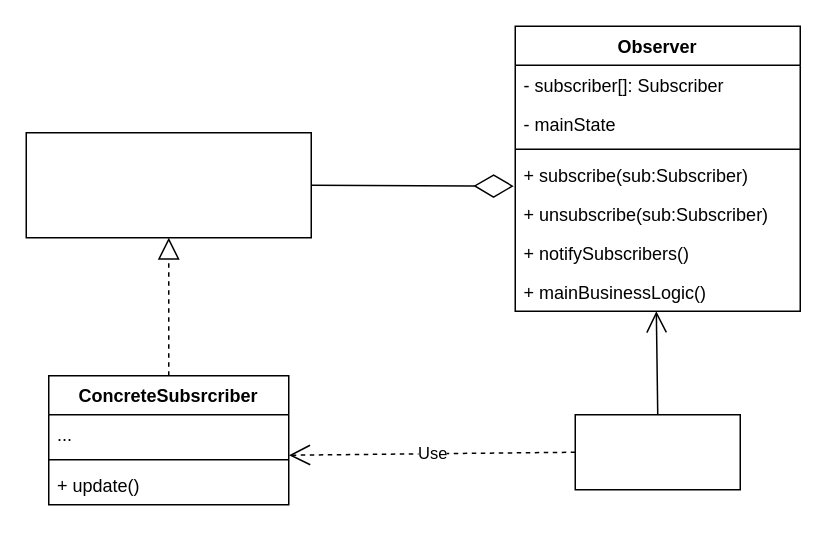
Some shapes in this 827 by 536 pixel diagram are drawn without their labels. Each missing label, with the centre of its shape:
<<Interface>> Subscriber + update(): point (168, 184)
Client: point (657, 451)
